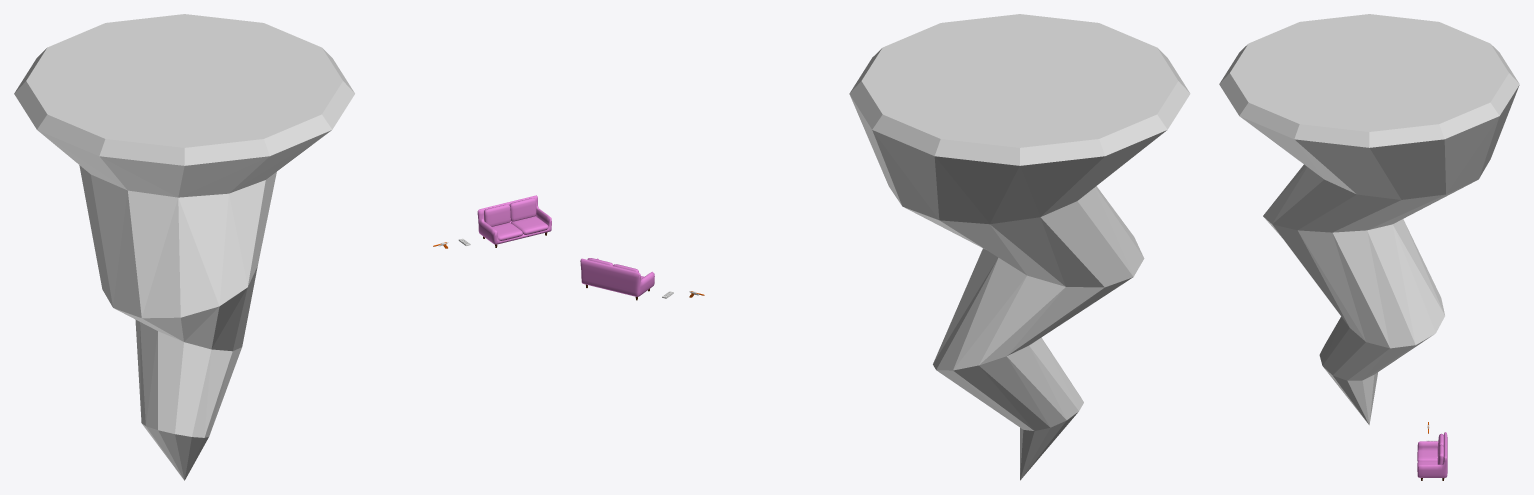
The model's file is lavamodels.fbx.
3 views of the same model, side by side, from view 1: azimuth 30°, elevation 25°; view 2: azimuth 150°, elevation 25°; view 3: azimuth 270°, elevation 25° (orthographic). The views are drawn at different scales.
Visible parts, largest first — view 1: Stalectite\, Cube.003, Cube.001, Cube; view 2: Stalectite\, Cube.001; view 3: Stalectite\, Cube.001, Cube.
Boxes of the visible parts, x1,y1,x2,y2 form: Stalectite\: (14,14,354,480); Cube.003: (484,198,536,226); Cube.001: (477,195,551,244); Cube: (492,216,548,240); Stalectite\: (849,14,1190,480); Cube.001: (580,258,654,296); Stalectite\: (1219,14,1519,425); Cube.001: (1417,432,1447,477); Cube: (1417,449,1437,471).
Bounding box in the file's own units: 4183 × 2940 × 2273.
